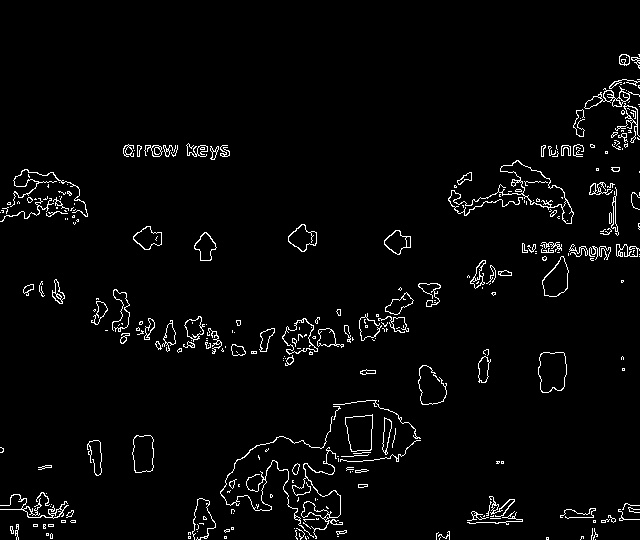left: (120, 219, 171, 261), (278, 214, 322, 256), (377, 222, 415, 262)
up: (188, 225, 224, 264)
